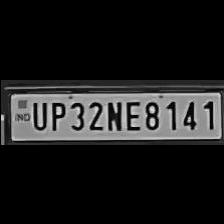1: (199, 97, 217, 128), (162, 97, 178, 130)
2: (84, 97, 104, 130)
3: (66, 97, 84, 130)
4: (178, 97, 198, 129)
8: (140, 97, 160, 130)
E: (122, 97, 142, 130)
N: (104, 97, 122, 130)
P: (46, 97, 64, 130)
U: (28, 98, 46, 130)
